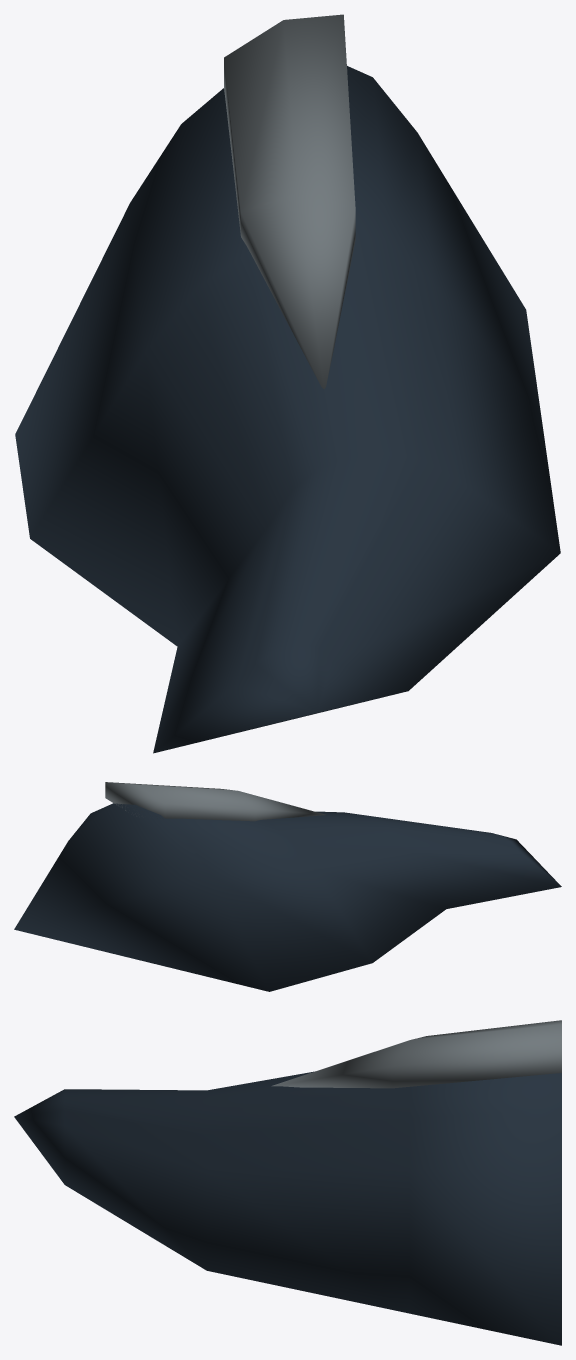
Rendered from newshn-39.glb.
The picture shows the model from 3 angles, top to bottom: view 1: azimuth 30°, elevation 25°; view 2: azimuth 150°, elevation 25°; view 3: azimuth 270°, elevation 25°; orthographic projection. The views are drawn at different scales.
Parts seen in each view (by area): view 1: newshn-39; view 2: newshn-39; view 3: newshn-39.
Part boxes in pixels (x1=…): newshn-39: x1=15, y1=14, x2=560, y2=753; newshn-39: x1=14, y1=782, x2=561, y2=991; newshn-39: x1=14, y1=1020, x2=561, y2=1345.
Size of the model in its own units: 0.4792 by 0.2175 by 0.45.
